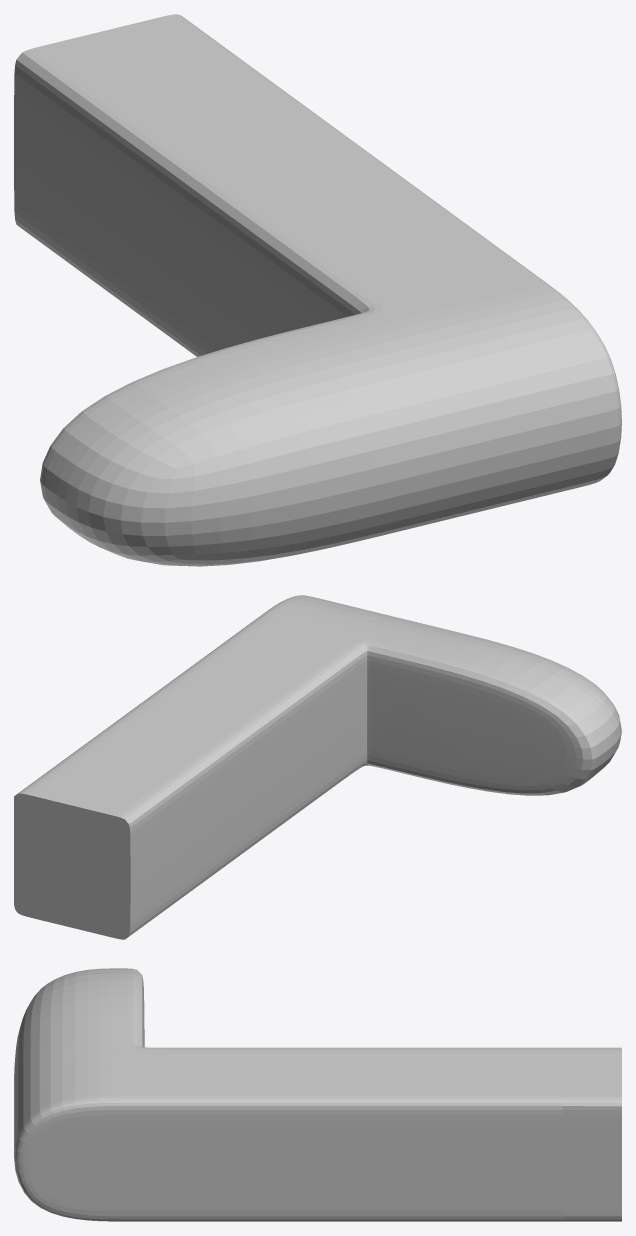
File: support.glb
The picture shows the model from 3 angles, top to bottom: view 1: azimuth 30°, elevation 25°; view 2: azimuth 150°, elevation 25°; view 3: azimuth 270°, elevation 25°; orthographic projection. The views are drawn at different scales.
Parts seen in each view (by area): view 1: Cube; view 2: Cube; view 3: Cube.
Part boxes in pixels (<box>): Cube: <box>14,14,621,566</box>; Cube: <box>14,595,621,939</box>; Cube: <box>14,968,621,1221</box>.
Bounding box in the file's own units: 2.92 × 1 × 4.46.
1 material, 1 textured.
